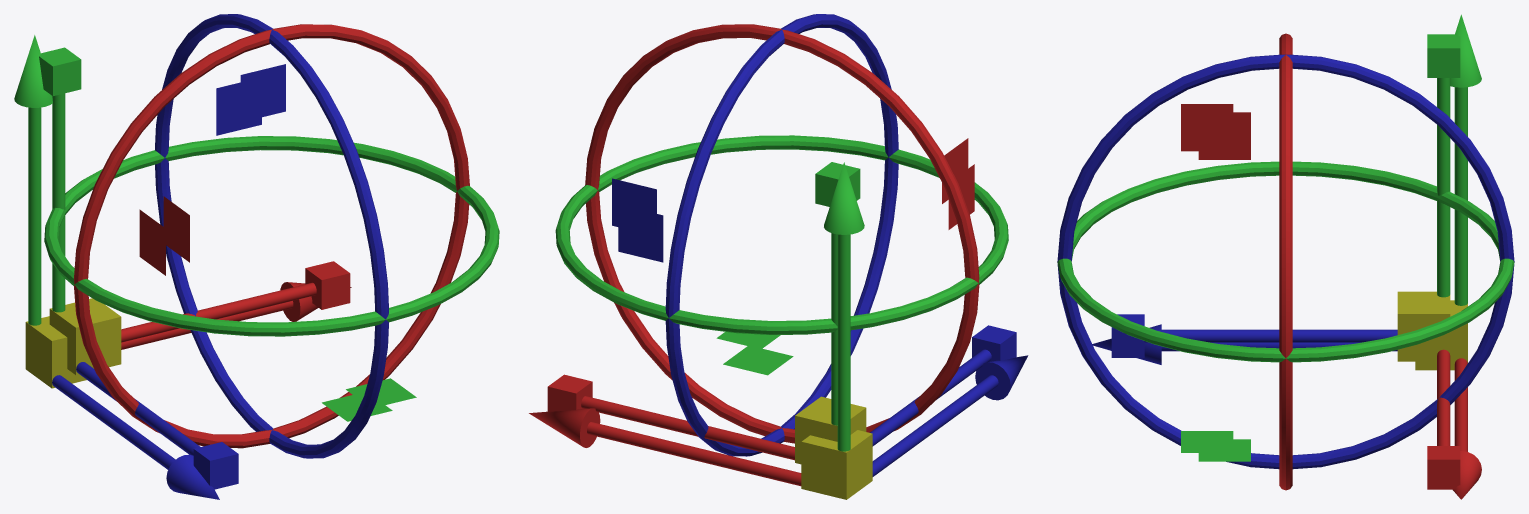
The model's file is ManipulationTools.fbx.
3 views of the same model, side by side, from view 1: azimuth 30°, elevation 25°; view 2: azimuth 150°, elevation 25°; view 3: azimuth 270°, elevation 25° (orthographic).
Visible parts, largest first — view 1: RotateTool_obj, ScaleTool_obj, MoveTool_obj; view 2: RotateTool_obj, MoveTool_obj, ScaleTool_obj; view 3: RotateTool_obj, ScaleTool_obj, MoveTool_obj.
Part boxes in pixels (x1,y1,x2,y2): RotateTool_obj: [44, 14, 499, 458]; ScaleTool_obj: [39, 47, 416, 489]; MoveTool_obj: [14, 35, 392, 499]; RotateTool_obj: [555, 14, 1008, 456]; MoveTool_obj: [529, 162, 1028, 499]; ScaleTool_obj: [547, 138, 1016, 464]; RotateTool_obj: [1057, 33, 1514, 490]; ScaleTool_obj: [1111, 34, 1460, 489]; MoveTool_obj: [1092, 14, 1481, 499].
Bounding box in the file's own units: 8.7 × 8.7 × 8.7.
